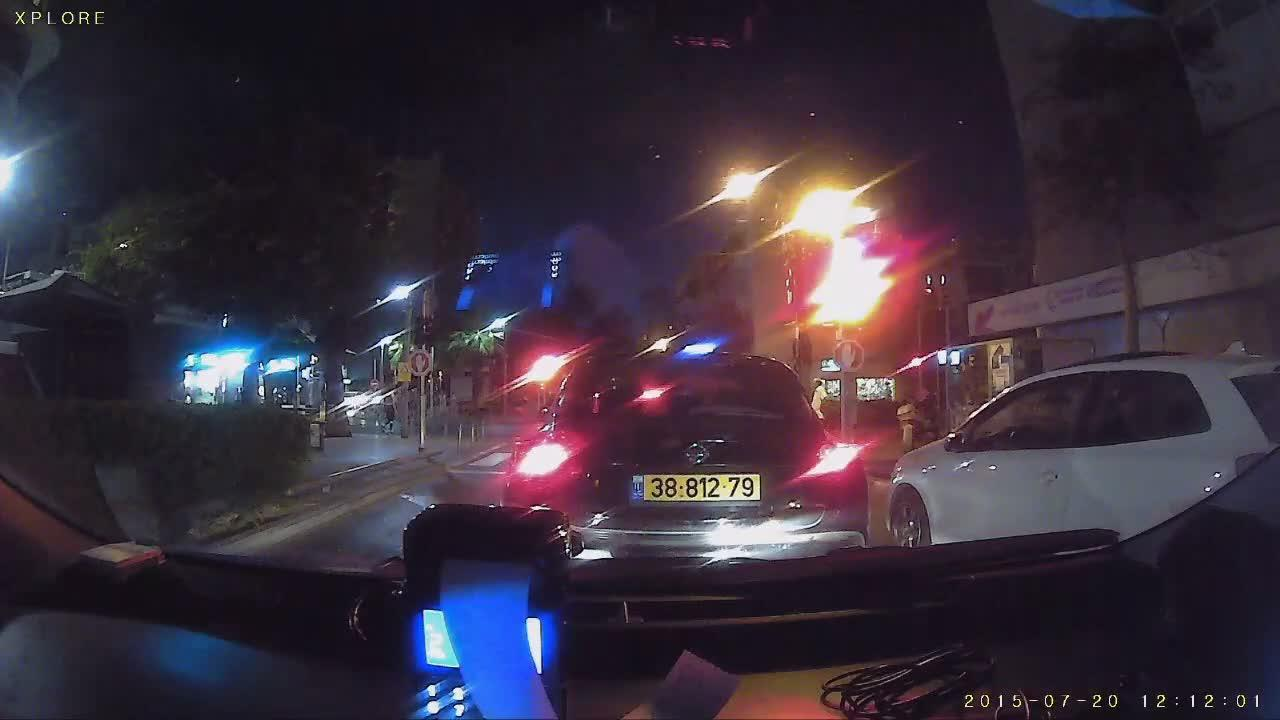Nissan: (679, 435, 716, 466)
